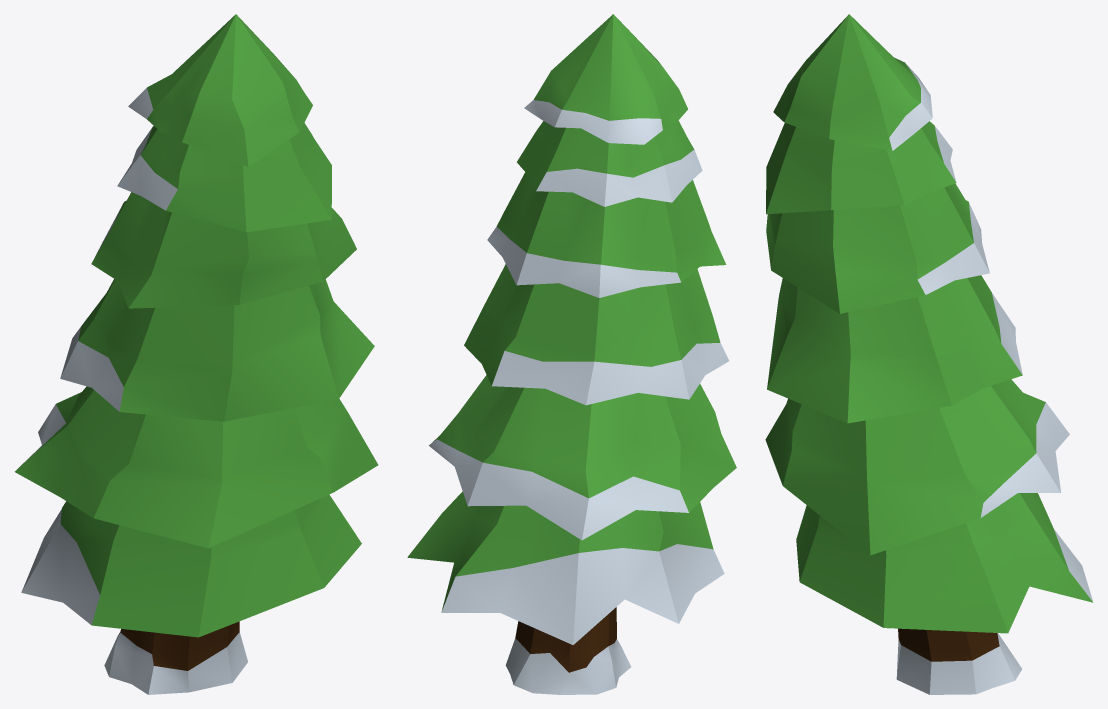
Rendered from snow_tree1.fbx.
3 views of the same model, side by side, from view 1: azimuth 30°, elevation 25°; view 2: azimuth 150°, elevation 25°; view 3: azimuth 270°, elevation 25° (orthographic). The views are drawn at different scales.
Parts seen in each view (by area): view 1: FirTreeSnow1; view 2: FirTreeSnow1; view 3: FirTreeSnow1.
Part boxes in pixels (x1=…): FirTreeSnow1: x1=14, y1=14, x2=378, y2=694; FirTreeSnow1: x1=407, y1=14, x2=736, y2=694; FirTreeSnow1: x1=765, y1=14, x2=1093, y2=694.
Size of the model in its own units: 2.11 by 4.56 by 2.07.
